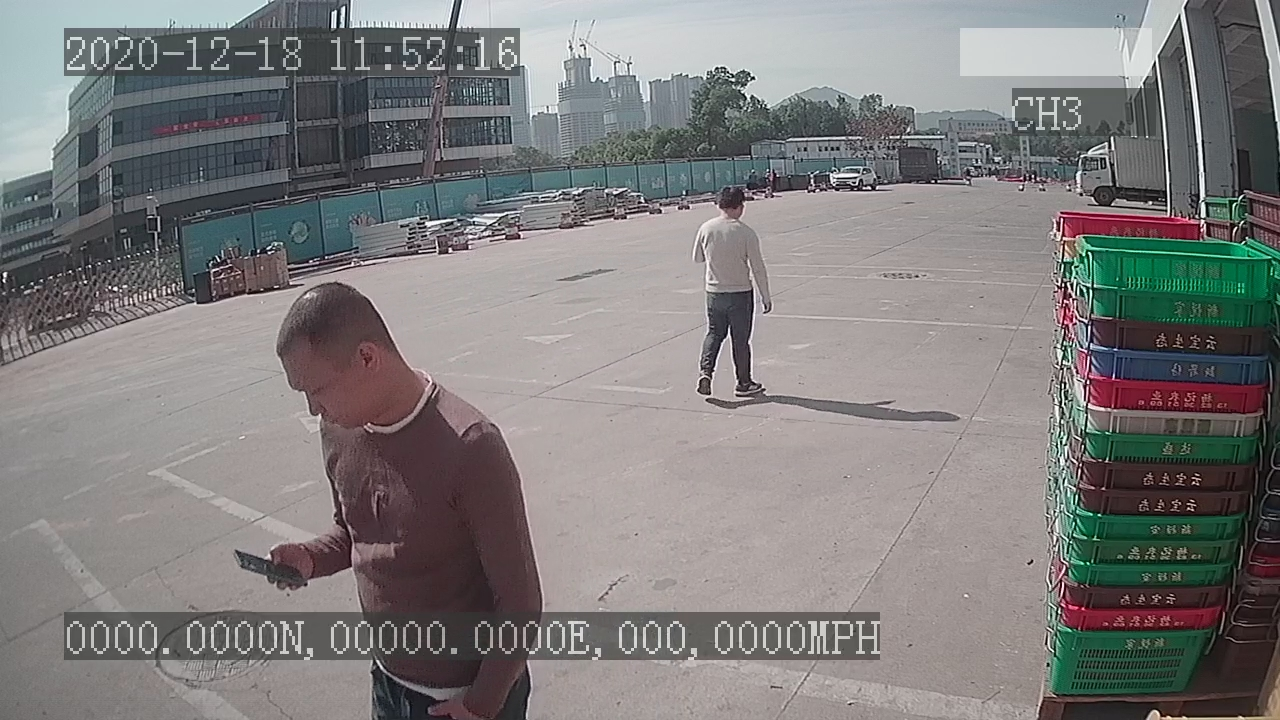person: (686, 183, 777, 406)
